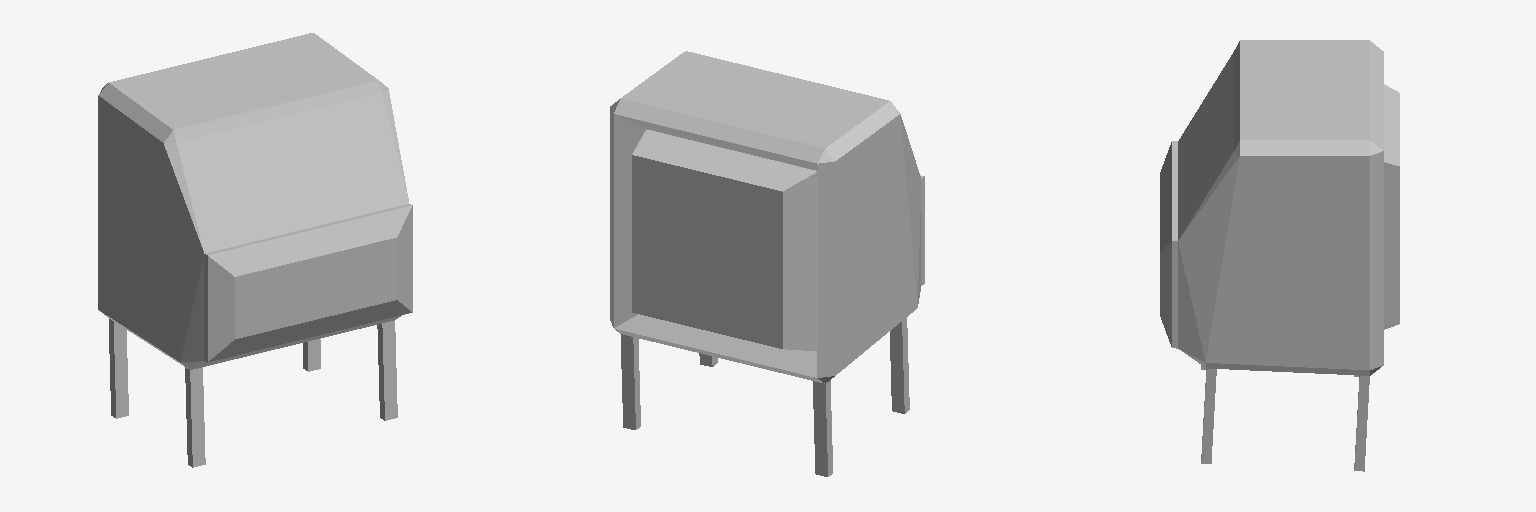
Rendered from televisie met materials.obj.
3 views of the same model, side by side, from view 1: azimuth 30°, elevation 25°; view 2: azimuth 150°, elevation 25°; view 3: azimuth 270°, elevation 25° (orthographic).
Visible parts, largest first — view 1: Cube.007_Cube.009; view 2: Cube.007_Cube.009; view 3: Cube.007_Cube.009.
Part boxes in pixels (x1,y1,x2,y2): Cube.007_Cube.009: (98,33,412,467); Cube.007_Cube.009: (610,51,924,476); Cube.007_Cube.009: (1160,40,1399,471).
Bounding box in the file's own units: 2 × 2.81 × 1.85.